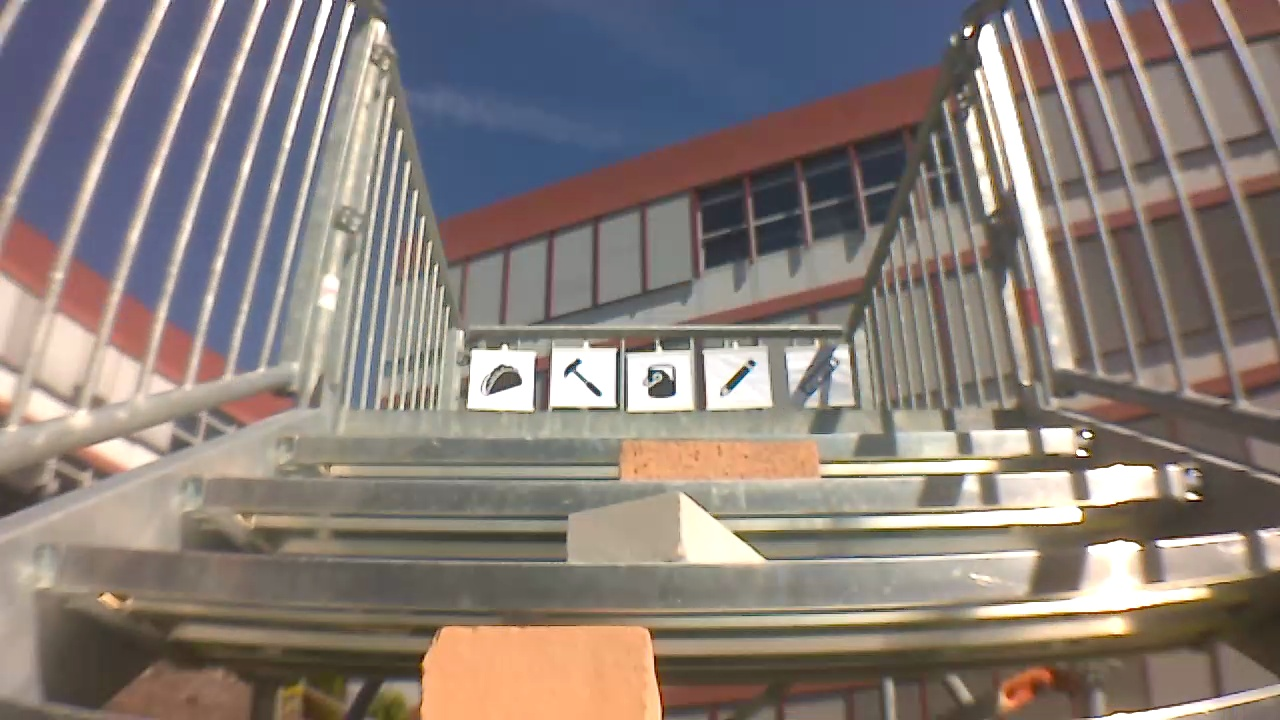brick: (414, 617, 649, 720), (561, 496, 777, 568), (608, 438, 823, 479)
edge: (25, 571, 1280, 620), (168, 479, 1205, 523), (264, 424, 1102, 474), (319, 400, 1032, 440)
